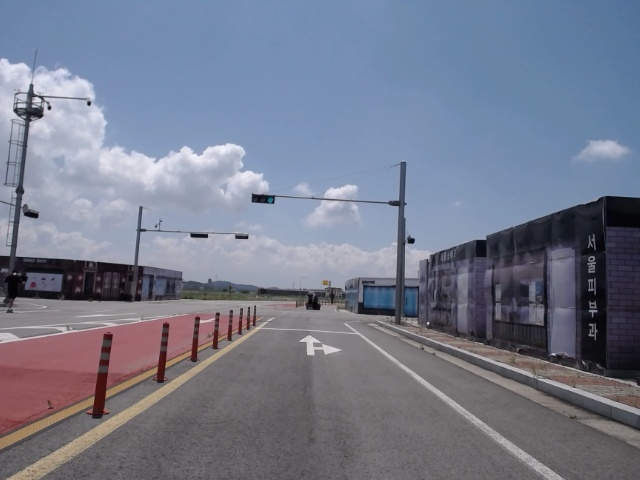green_3: (253, 196, 273, 202)
